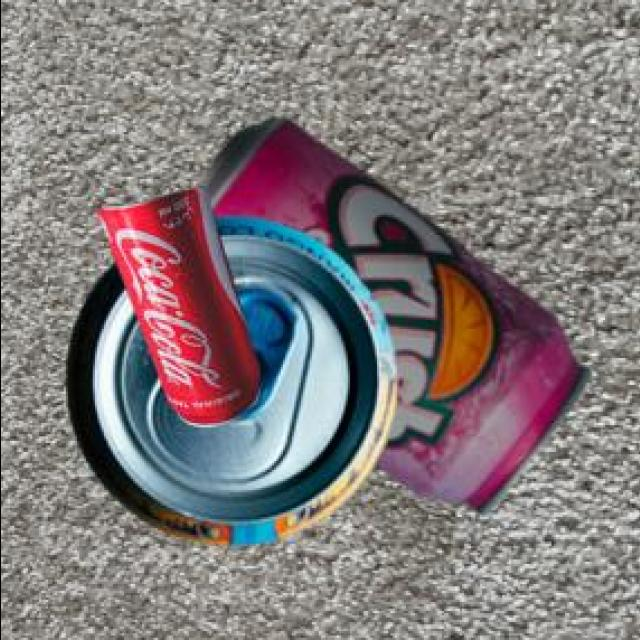logam: (196, 122, 585, 518), (64, 220, 393, 547), (93, 189, 256, 431)
